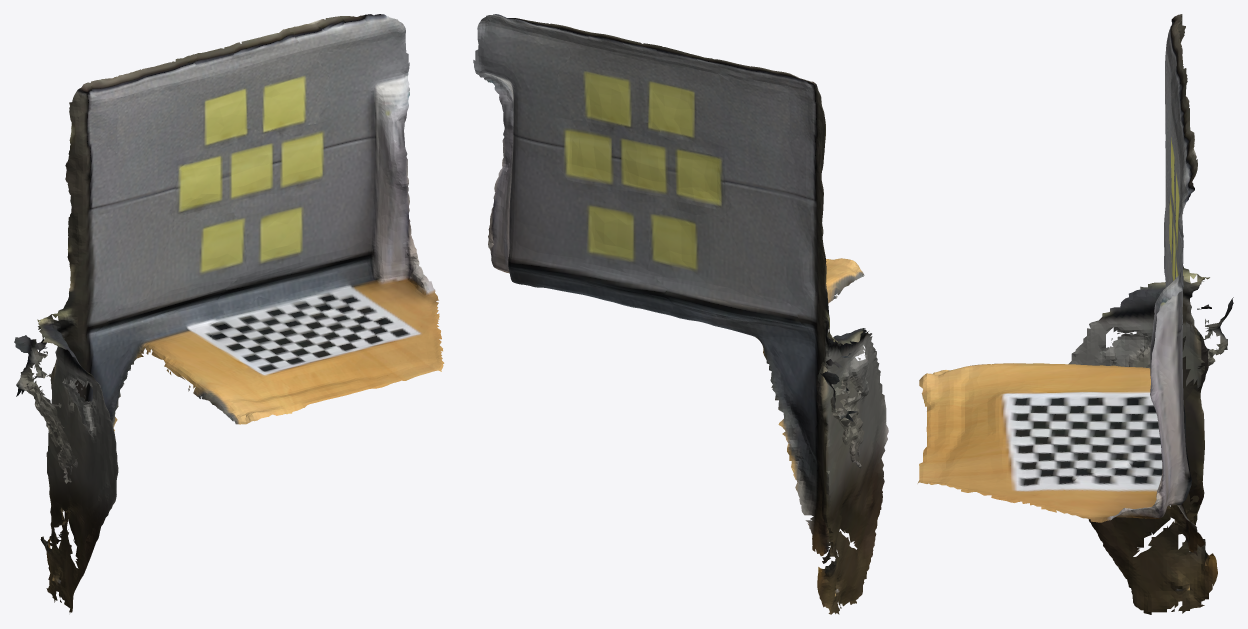
The model's file is Scaniverse_2024_11_29_160313.obj.
The picture shows the model from 3 angles, left to right: view 1: azimuth 30°, elevation 25°; view 2: azimuth 150°, elevation 25°; view 3: azimuth 270°, elevation 25°; orthographic projection. The views are drawn at different scales.
Visible parts, largest first — view 1: mesh; view 2: mesh; view 3: mesh.
Boxes of the visible parts, bbox=[...] form: mesh: bbox=[14, 14, 444, 612]; mesh: bbox=[473, 14, 888, 614]; mesh: bbox=[917, 14, 1233, 614].
Size of the model in its own units: 0.6972 by 0.8962 by 0.4157.
Materials: 1 (1 with a texture image).
